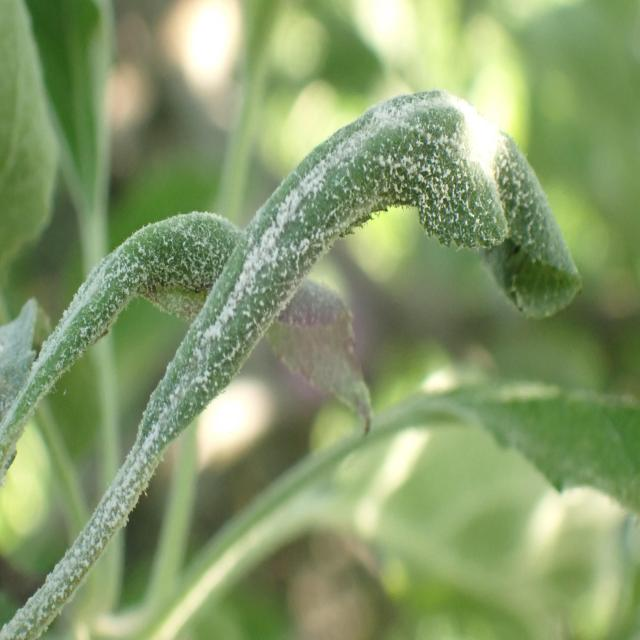Powdery_mildew: (48, 99, 581, 628), (146, 378, 635, 640), (0, 156, 371, 441)
